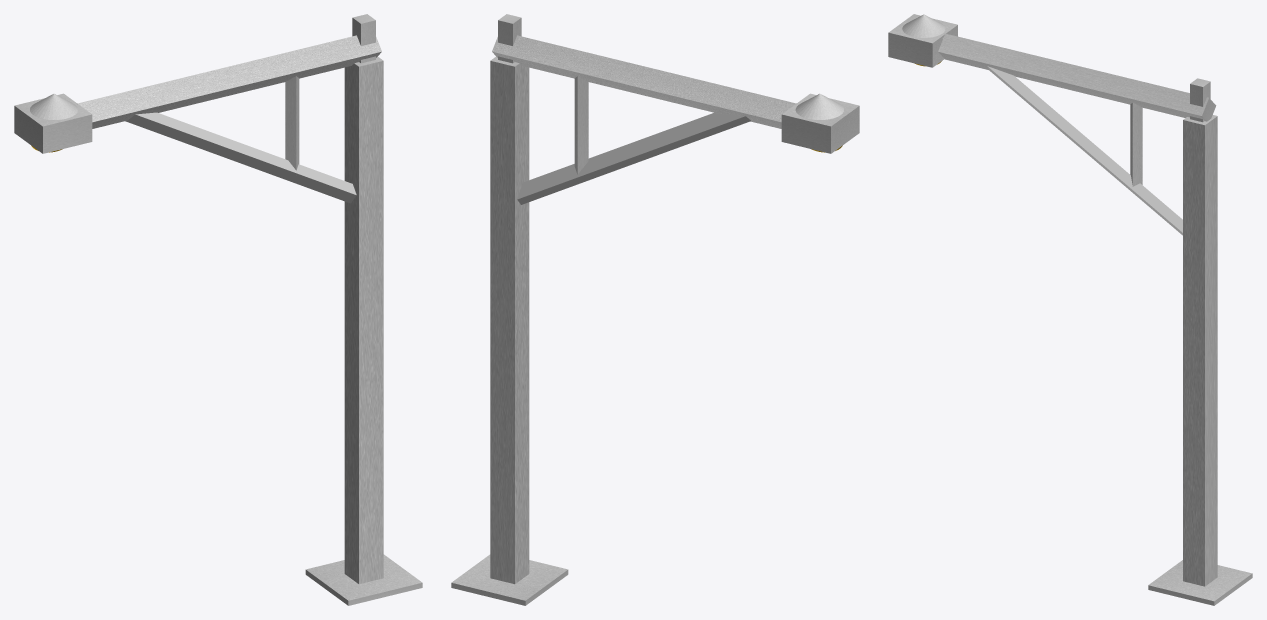
File: streetlamp.obj
The picture shows the model from 3 angles, left to right: view 1: azimuth 30°, elevation 25°; view 2: azimuth 150°, elevation 25°; view 3: azimuth 330°, elevation 25°; orthographic projection. The views are drawn at different scales.
Visible parts, largest first — view 1: Cube.007, Cube.003, Cube.008, Cube, Cube.006, Cube.001, Cone, Cube.004; view 2: Cube.007, Cube.003, Cube.008, Cube, Cube.006, Cube.001, Cone, Cube.004; view 3: Cube.007, Cube.003, Cube.008, Cube, Cube.006, Cube.001, Cone, Cube.004.
Part boxes in pixels (x1,y1,x2,y2): Cube.007: (344,56,383,584); Cube.003: (77,35,381,128); Cube.008: (125,112,356,203); Cube: (305,554,422,605); Cube.006: (14,93,92,153); Cube.001: (285,76,299,170); Cone: (30,93,78,119); Cube.004: (352,14,375,63); Cube.007: (490,56,529,584); Cube.003: (492,35,796,128); Cube.008: (517,112,750,204); Cube: (451,554,568,605); Cube.006: (781,93,859,153); Cube.001: (574,76,588,174); Cone: (795,93,843,119); Cube.004: (498,14,521,63); Cube.007: (1183,115,1217,586); Cube.003: (938,33,1216,121); Cube.008: (987,66,1182,235); Cube: (1148,560,1252,605); Cube.006: (888,14,957,67); Cube.001: (1130,102,1142,186); Cone: (902,14,945,38); Cube.004: (1190,78,1210,122).
Size of the model in its own units: 15.07 by 21.77 by 3.
10 materials, 9 textured.
